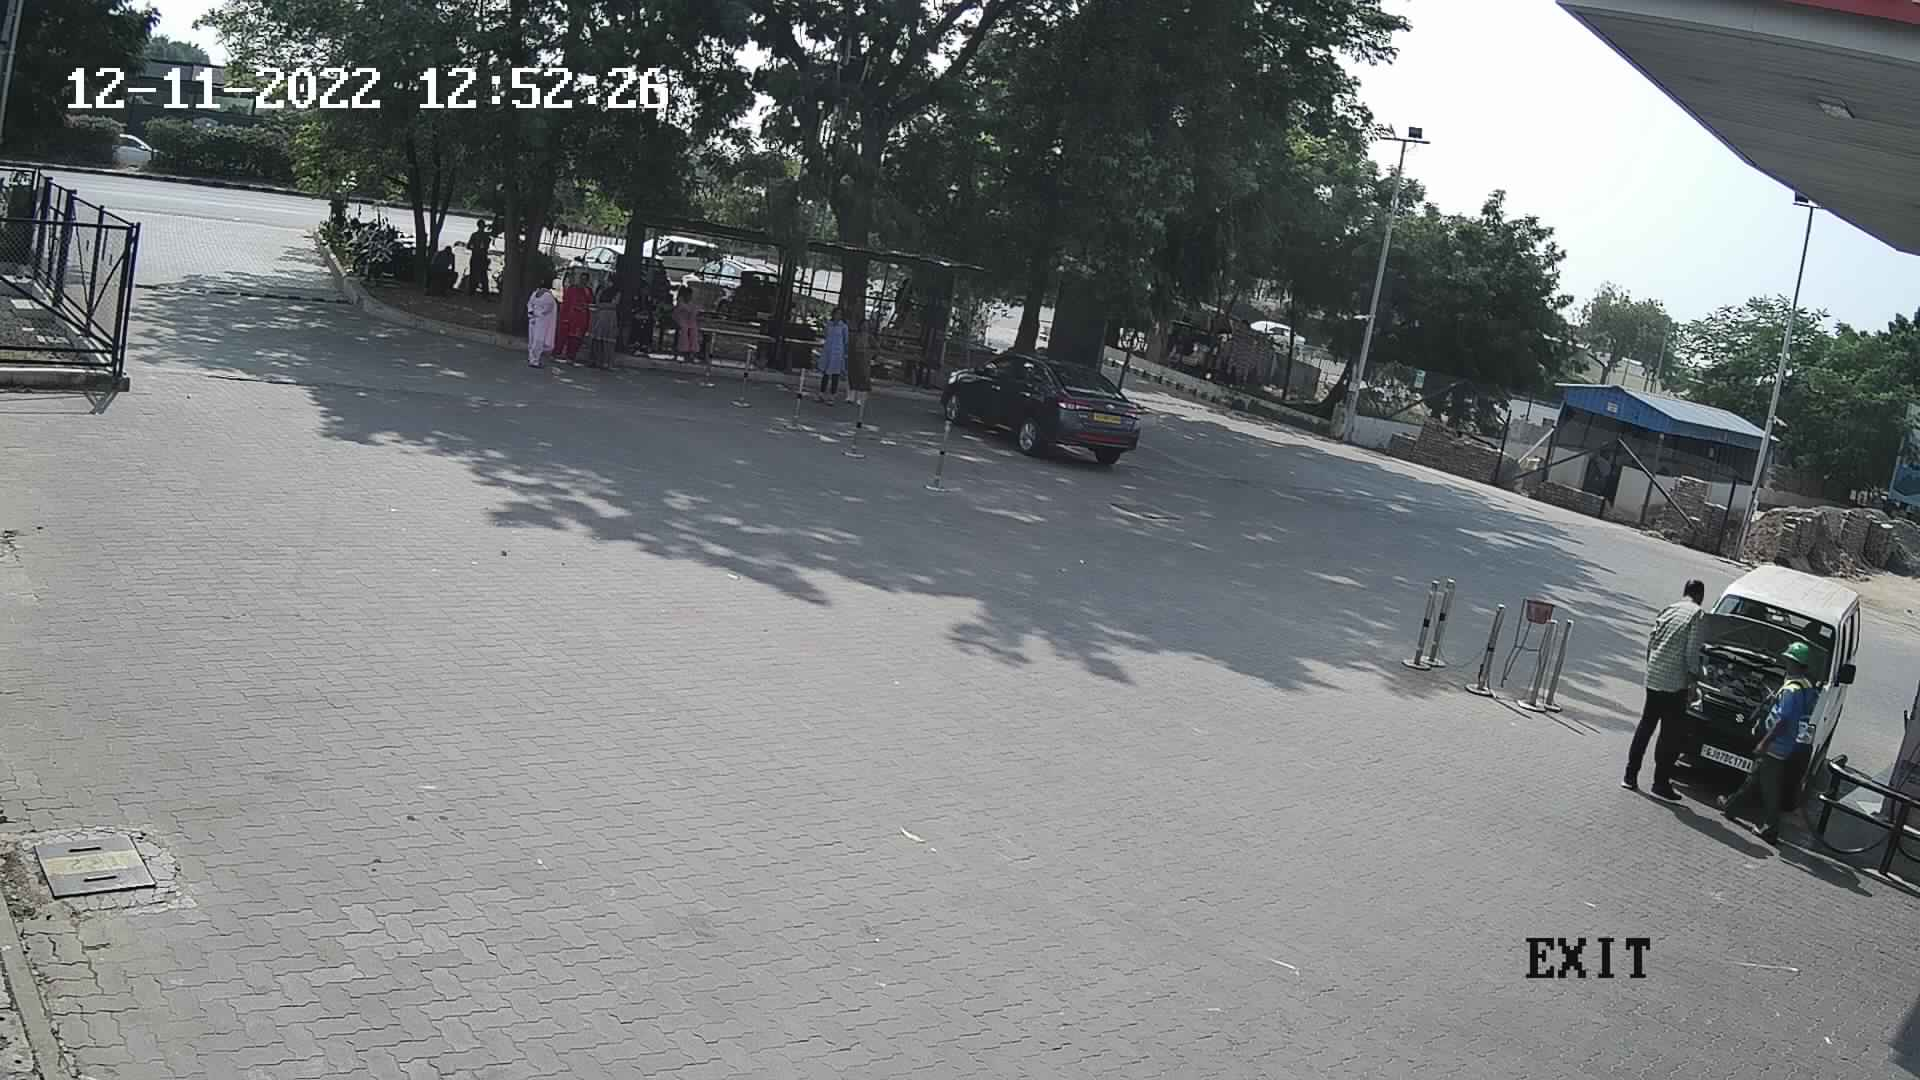Car: (1651, 554, 1869, 819), (943, 340, 1149, 468), (673, 245, 785, 316), (641, 220, 723, 281), (560, 229, 622, 295)
Others: (1706, 634, 1820, 851)
